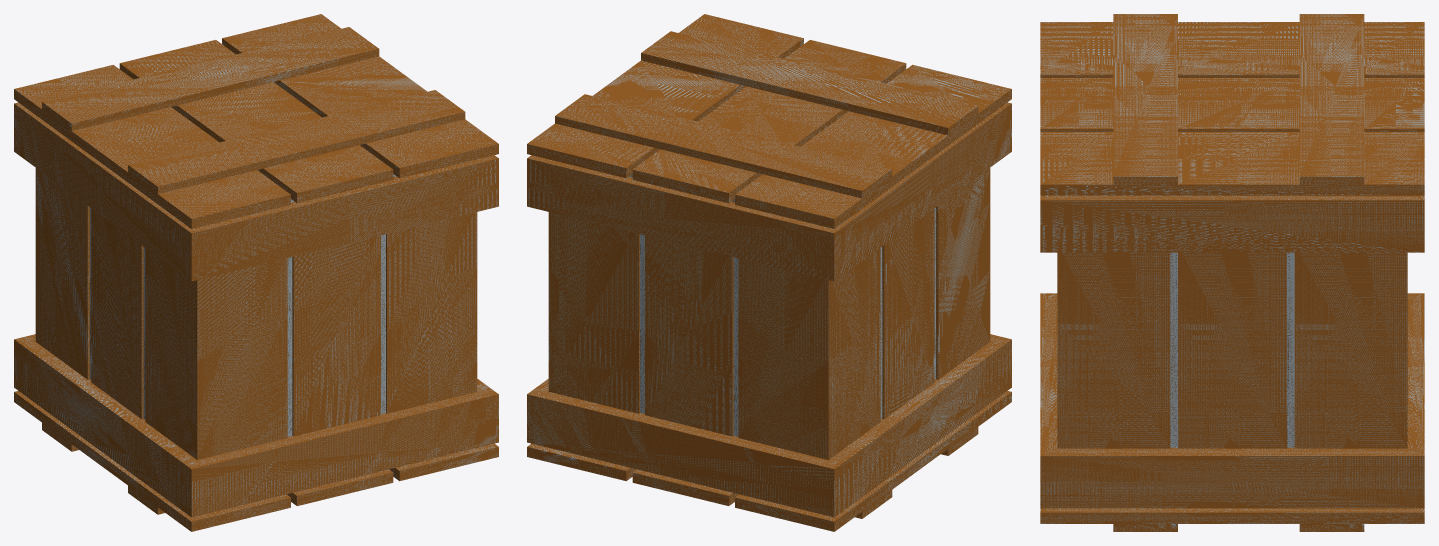
Rendered from Crate_Lid_01.fbx.
3 renders of one model, left to right at view 1: azimuth 30°, elevation 25°; view 2: azimuth 150°, elevation 25°; view 3: azimuth 270°, elevation 25°, orthographic. The views are drawn at different scales.
Visible parts, largest first — view 1: Model; view 2: Model; view 3: Model.
Part boxes in pixels (x1=…): Model: x1=14, y1=14, x2=498, y2=531; Model: x1=527, y1=14, x2=1011, y2=531; Model: x1=1040, y1=14, x2=1424, y2=531.
Size of the model in its own units: 150 by 153 by 150.
